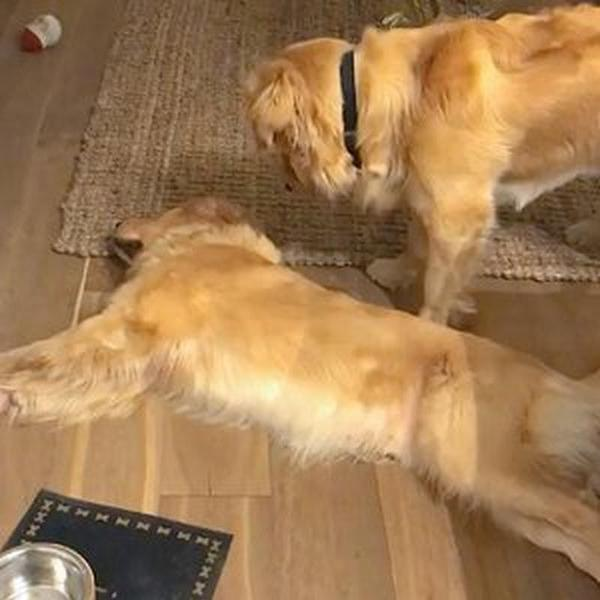allqu: (5, 188, 600, 573)
